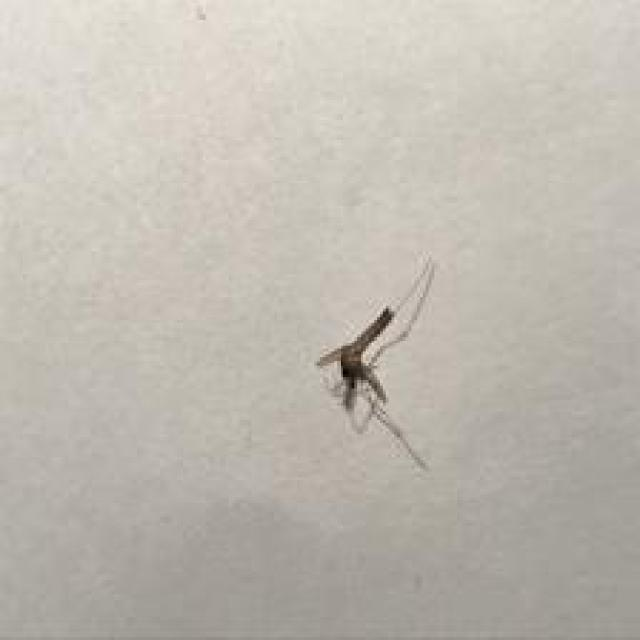Culex: (314, 254, 437, 472)
